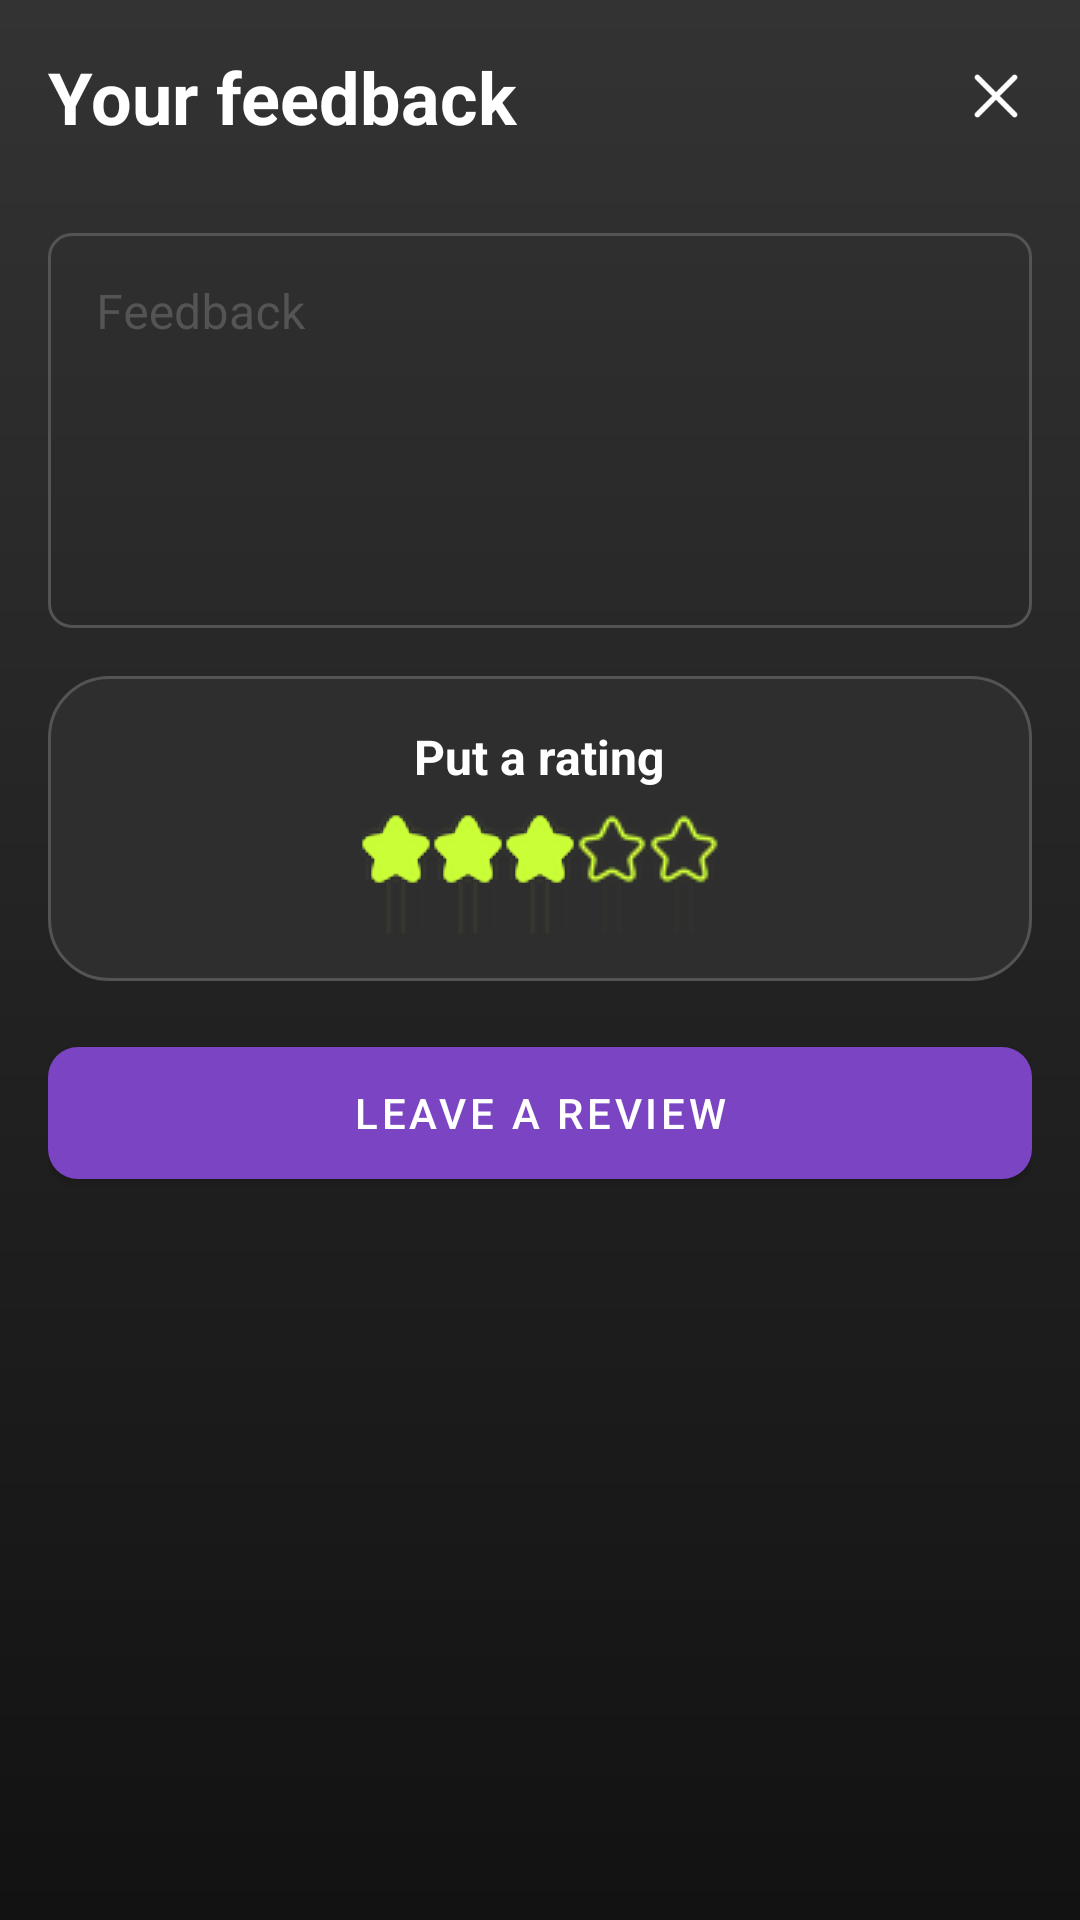

Where to tap for icons on this 1080 x 1920 app screen, as (x=x, y=y):
close: (x=996, y=96)
